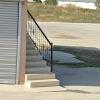stairs: (19, 25, 68, 93)
